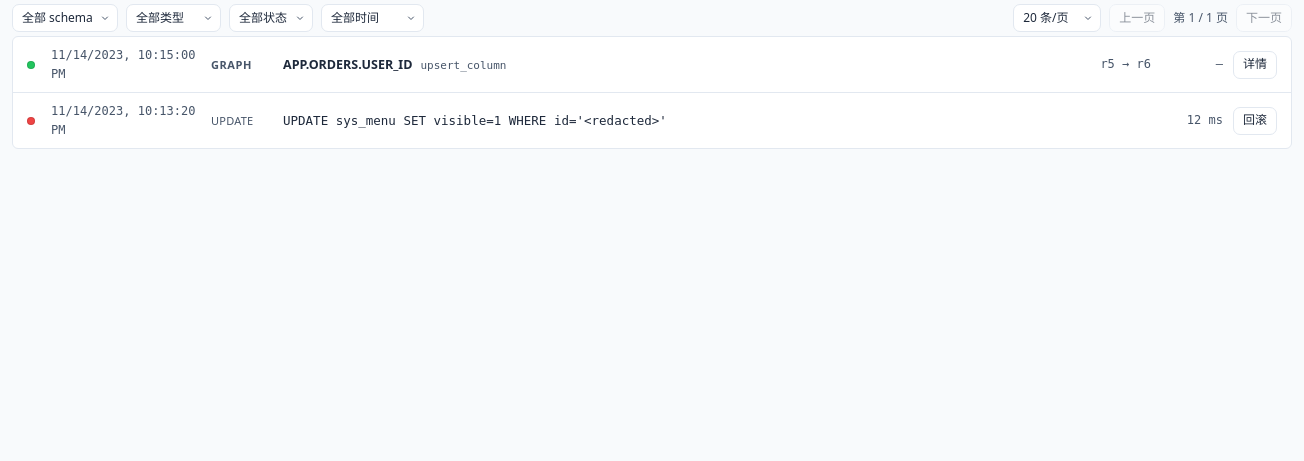
it: 失败的语句也在列表里，点开能看到失败原因和完整 SQL
Click the button titled "展开完整 SQL".
click(475, 121)  # box [283,113,1079,128]
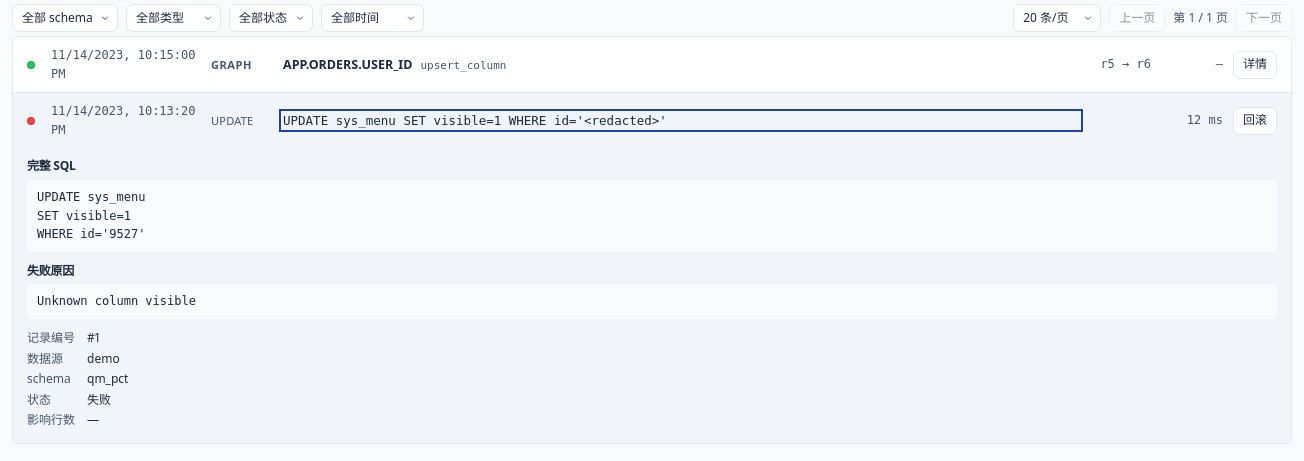
Result: the heading "失败原因" is shown at [27,262,74,279]
Result: the text "Unknown column visible" is shown at [27,284,1277,319]
Result: the text "UPDATE sys_menu SET visible=1 WHERE id='9527'" is shown at [27,180,1277,252]
